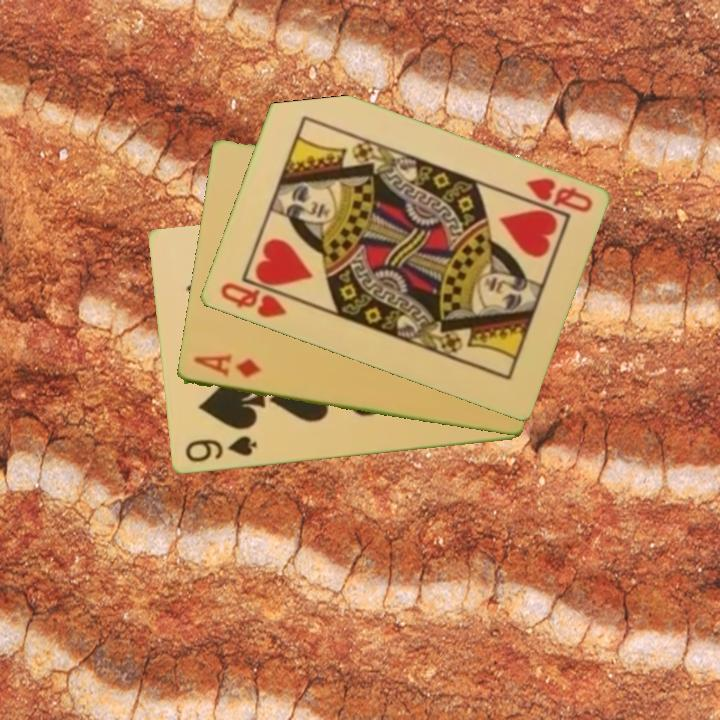9s: (181, 432, 260, 466)
Ad: (190, 352, 264, 381)
Qh: (216, 279, 289, 321), (522, 174, 595, 216)
